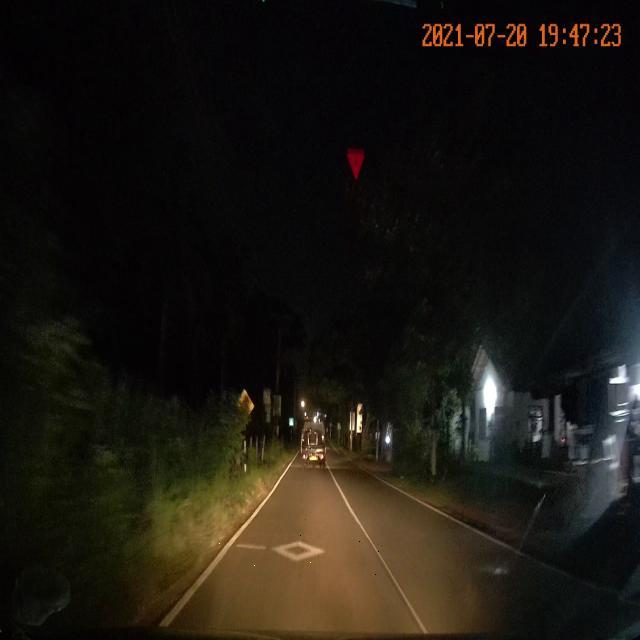diamond: (215, 536, 397, 580)
